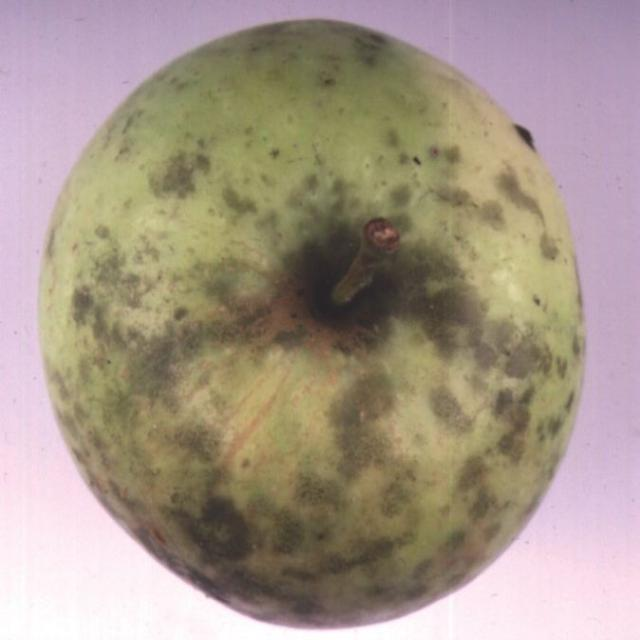Rotten Apple: (22, 13, 603, 612)
